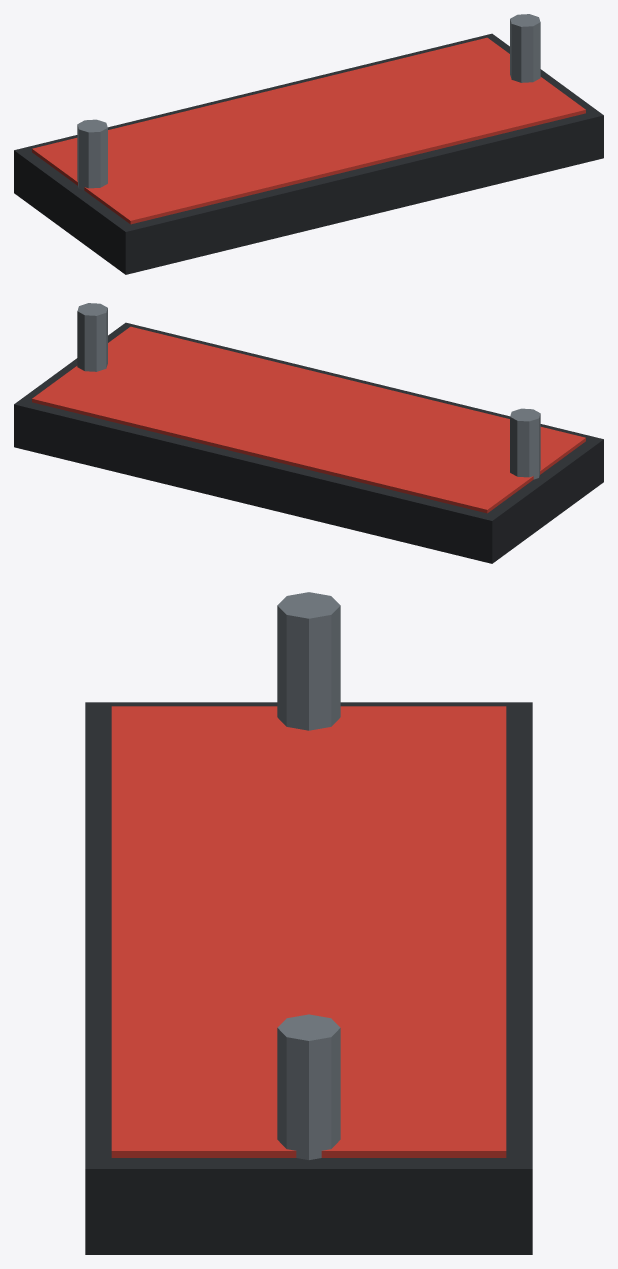
Rendered from Park_SwingSeat.fbx.
3 renders of one model, top to bottom at view 1: azimuth 30°, elevation 25°; view 2: azimuth 150°, elevation 25°; view 3: azimuth 270°, elevation 25°, orthographic. The views are drawn at different scales.
Parts seen in each view (by area): view 1: Park_SwingSeat; view 2: Park_SwingSeat; view 3: Park_SwingSeat.
Boxes of the visible parts, box(x1,y1,x2,y2) form: Park_SwingSeat: box(14, 14, 603, 274); Park_SwingSeat: box(14, 303, 603, 563); Park_SwingSeat: box(85, 592, 532, 1254).
Size of the model in its own units: 4.2 by 0.86 by 1.7.
